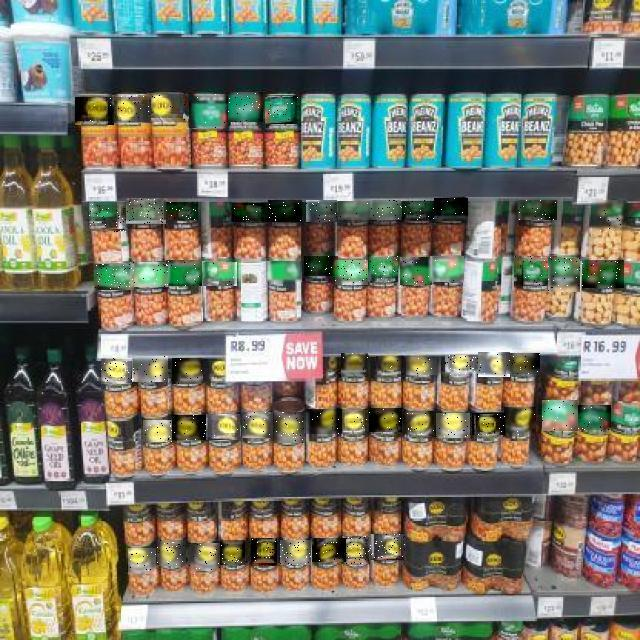Beans: (189, 94, 228, 128), (514, 256, 557, 286), (582, 260, 624, 288), (148, 94, 188, 122), (592, 200, 628, 231), (542, 400, 578, 431), (226, 92, 263, 122), (112, 95, 151, 123), (75, 97, 114, 125), (548, 259, 580, 293), (94, 264, 134, 290), (126, 198, 166, 224), (89, 205, 126, 233), (369, 534, 406, 560), (266, 96, 300, 124), (130, 262, 168, 287), (166, 260, 202, 286), (306, 410, 342, 436), (274, 412, 304, 443), (400, 257, 432, 285), (504, 408, 536, 436), (430, 256, 464, 282), (102, 359, 136, 385), (206, 414, 240, 440), (189, 543, 220, 571), (135, 356, 168, 382), (578, 406, 611, 432), (436, 413, 470, 438), (172, 415, 206, 440), (335, 260, 368, 285), (203, 262, 237, 286), (312, 538, 346, 562), (172, 358, 203, 384), (242, 413, 273, 439), (478, 352, 510, 377), (266, 262, 302, 284), (369, 408, 402, 432), (342, 536, 370, 564), (368, 256, 398, 282), (518, 200, 557, 220), (280, 540, 311, 565), (157, 540, 186, 566), (506, 354, 540, 376), (269, 200, 303, 222), (251, 539, 277, 567), (129, 548, 157, 574), (472, 413, 505, 435), (434, 198, 468, 219), (403, 411, 434, 434), (232, 203, 268, 222), (306, 200, 337, 222), (304, 256, 338, 276), (339, 202, 373, 222), (445, 356, 478, 376), (338, 410, 368, 432), (401, 200, 434, 220), (370, 200, 402, 220), (143, 420, 172, 442), (220, 540, 245, 565), (342, 354, 370, 376), (164, 202, 198, 220), (406, 357, 437, 375), (376, 356, 404, 370)
